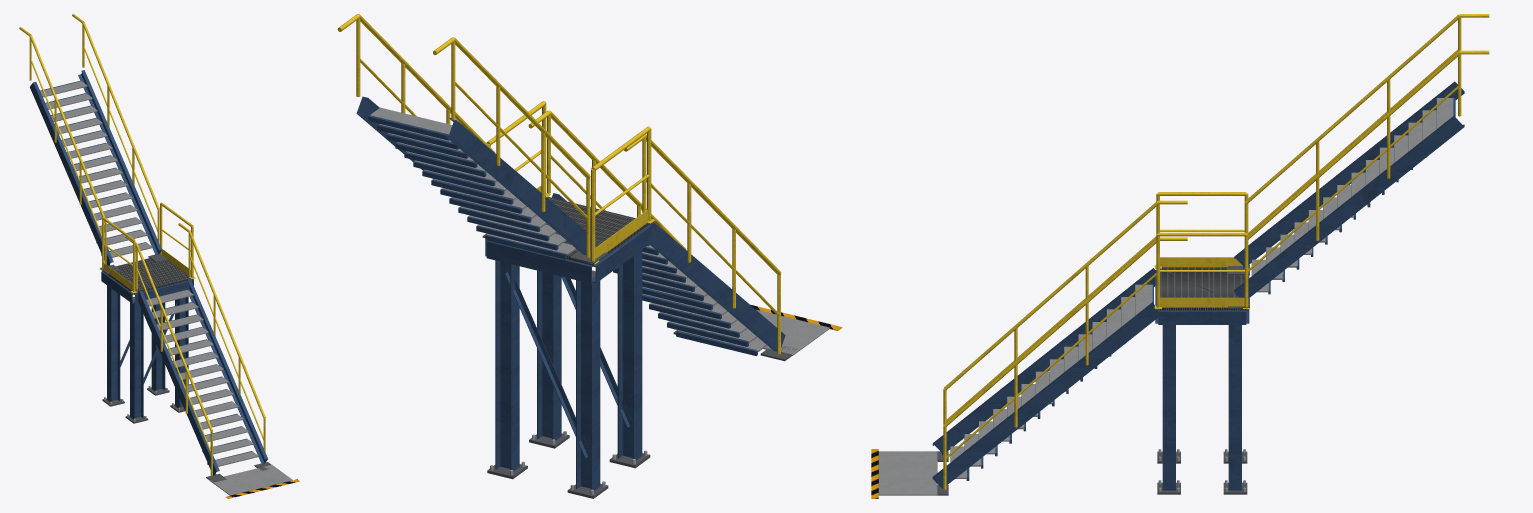
File: stairs_lf.glb
3 renders of one model, left to right at view 1: azimuth 30°, elevation 25°; view 2: azimuth 150°, elevation 25°; view 3: azimuth 270°, elevation 25°, orthographic. The views are drawn at different scales.
Parts seen in each view (by area): view 1: Stairs_LF_geo; view 2: Stairs_LF_geo; view 3: Stairs_LF_geo.
Boxes of the visible parts, bbox=[...] form: Stairs_LF_geo: bbox=[19, 14, 299, 498]; Stairs_LF_geo: bbox=[337, 14, 842, 498]; Stairs_LF_geo: bbox=[871, 14, 1489, 498].
Size of the model in its own units: 1.6 by 6.63 by 8.8.
Materials: 8 (7 with a texture image).
